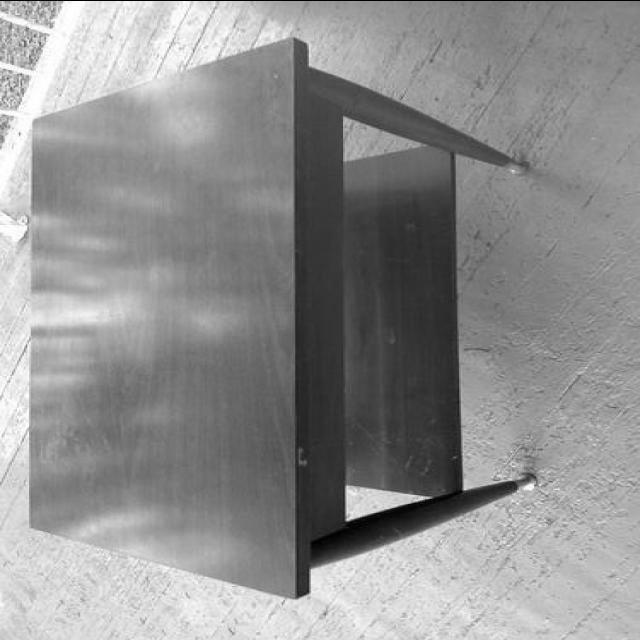table: (24, 39, 536, 596)
